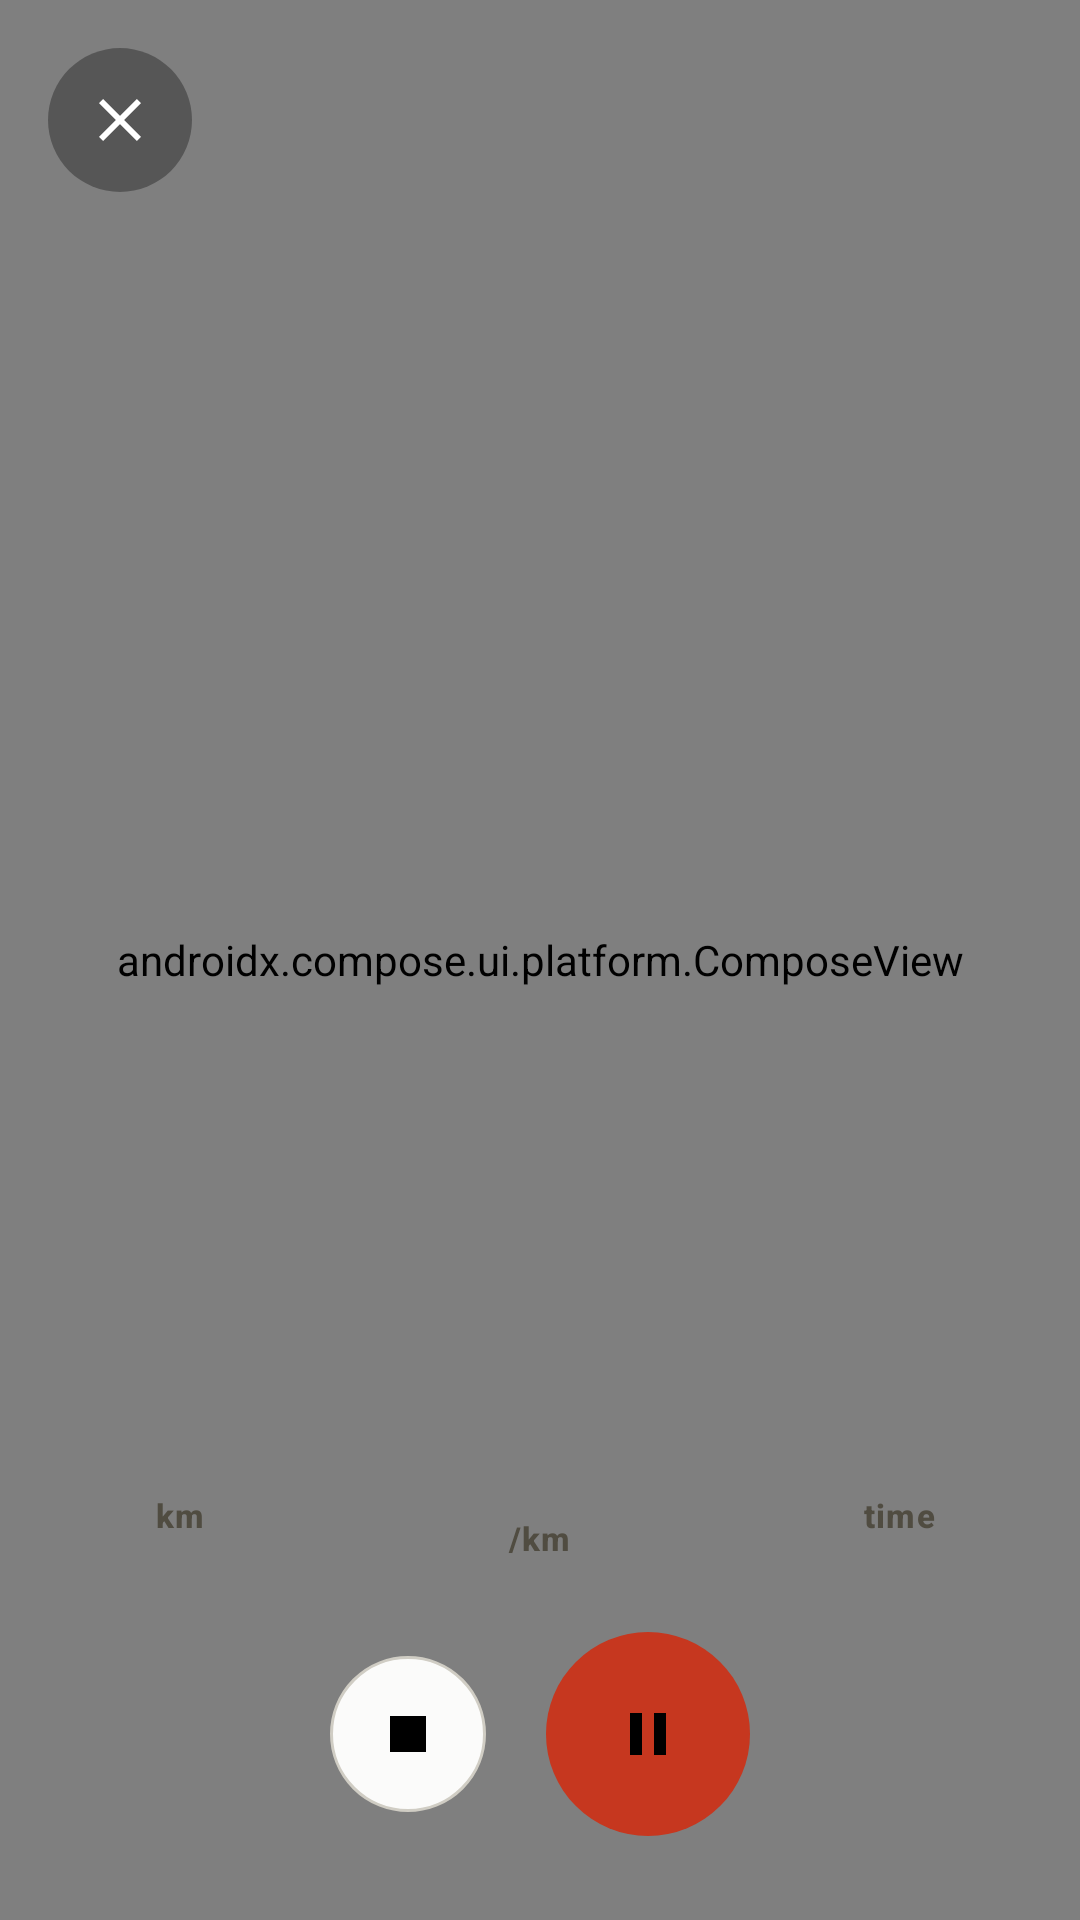

Icons on this 1080px x 1920px Android screen, each with its box as (x1, y1, x2, y2):
Back to Runs: (48, 48, 192, 192)
Pause: (546, 1632, 750, 1836)
Stop: (330, 1656, 486, 1812)
